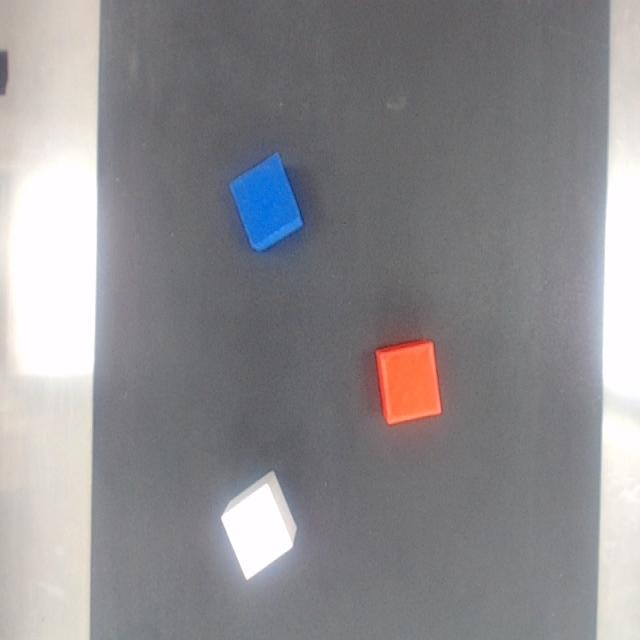Azul: (230, 153, 303, 251)
Blanco: (221, 473, 296, 579)
Rojo: (375, 341, 441, 424)
